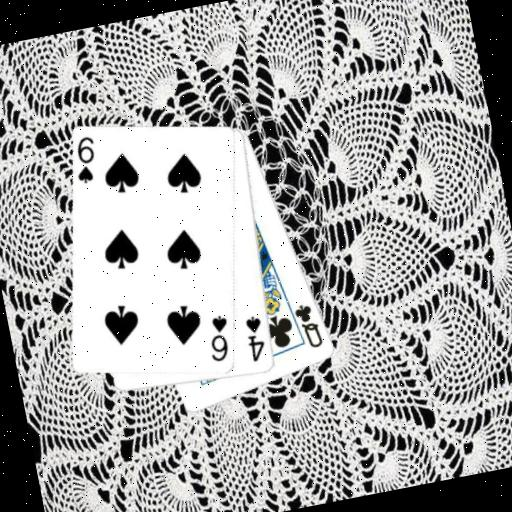4S: (240, 312, 271, 365)
6S: (67, 133, 103, 188), (201, 311, 237, 365)
QC: (290, 299, 326, 353)
